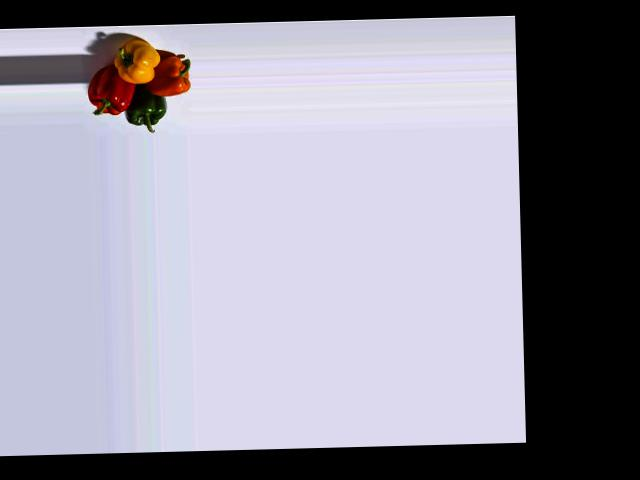bell_pepper: (85, 64, 135, 120)
